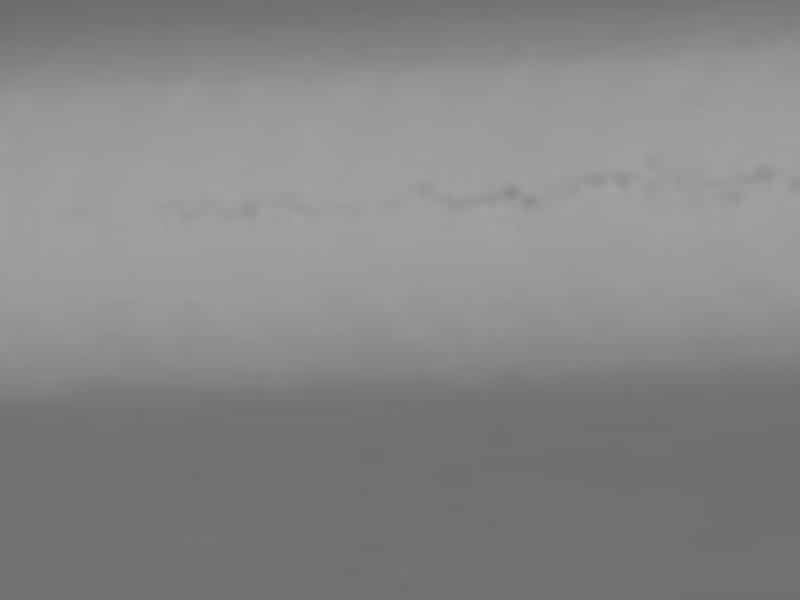defect: (673, 162, 709, 209), (163, 190, 202, 227), (438, 190, 497, 213), (641, 174, 668, 209), (231, 194, 263, 223), (288, 193, 318, 220), (751, 159, 779, 186), (378, 194, 409, 216), (610, 166, 636, 192), (639, 151, 671, 171), (490, 180, 519, 202), (409, 176, 435, 200), (578, 172, 609, 192), (719, 188, 747, 206), (727, 168, 752, 186), (517, 190, 537, 211), (784, 172, 799, 196)
